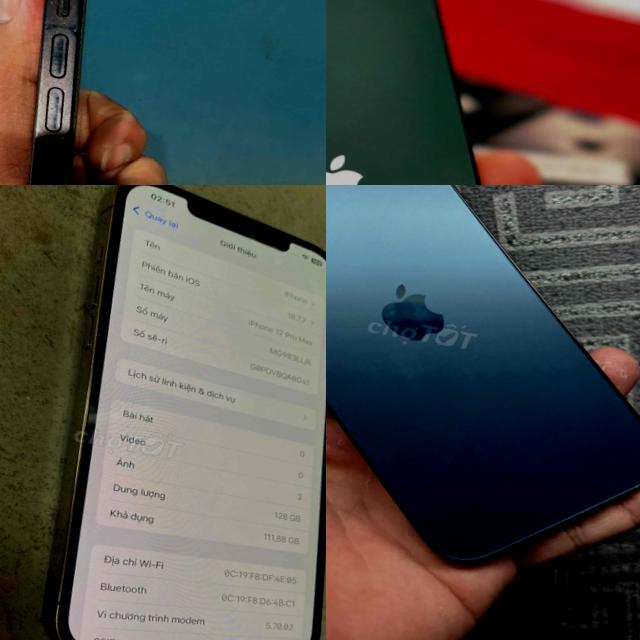gen_12_13: (24, 185, 326, 640), (326, 185, 640, 602), (326, 0, 613, 185)
gen_14: (0, 0, 183, 185)
